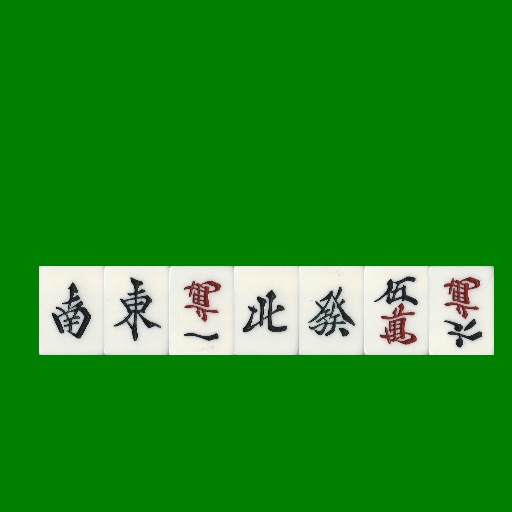1m: (169, 266, 234, 355)
5m: (364, 266, 429, 355)
6m: (429, 266, 494, 355)
east: (104, 266, 169, 355)
hatsu: (299, 266, 364, 355)
north: (234, 266, 299, 355)
south: (39, 266, 104, 355)
